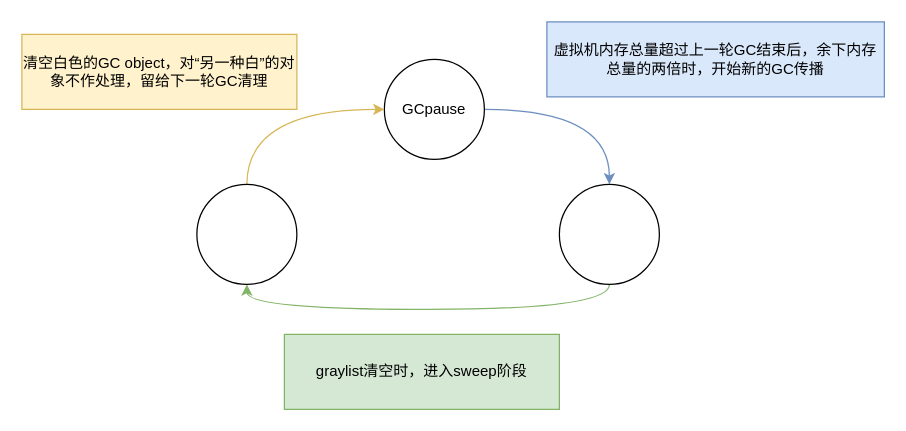
This 906x431 diagram has some shape labels left out. Each missing label, with the centre of its shape:
"GCpropagate" belongs at point (608, 233).
"GCsweep" belongs at point (246, 233).
